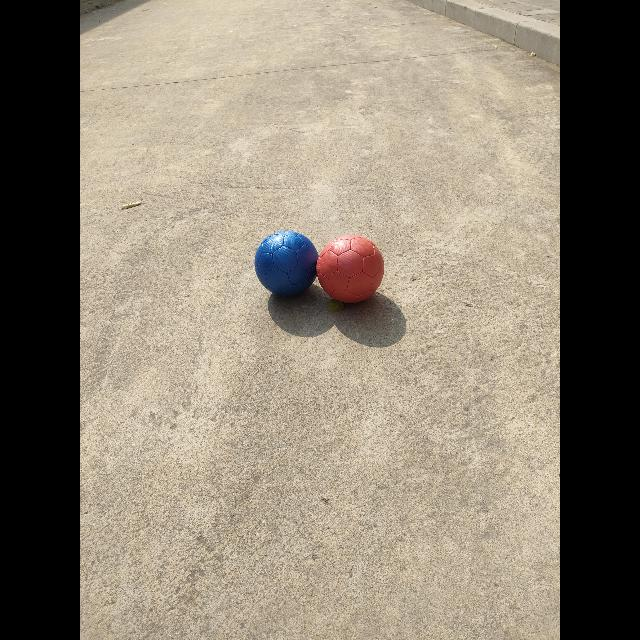B: (255, 230, 318, 296)
R: (316, 235, 384, 302)
